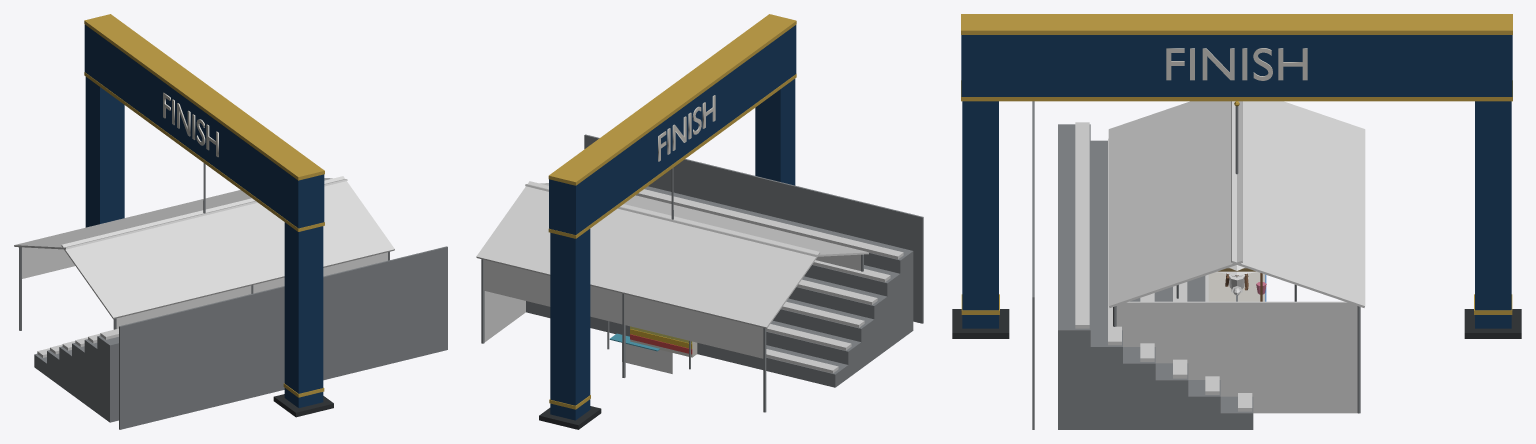
The model's file is kona_kit.glb.
The picture shows the model from 3 angles, left to right: view 1: azimuth 30°, elevation 25°; view 2: azimuth 150°, elevation 25°; view 3: azimuth 270°, elevation 25°; orthographic projection. The views are drawn at different scales.
Visible parts, largest first — view 1: KIT_grandstand, KIT_arch_final, KIT_expo_tent; view 2: KIT_expo_tent, KIT_arch_final, KIT_grandstand, KIT_shave_ice, KIT_flag; view 3: KIT_arch_final, KIT_expo_tent, KIT_grandstand, KIT_shave_ice.
Part boxes in pixels (<box>): KIT_grandstand: <box>34,246,447,429</box>; KIT_arch_final: <box>84,14,333,417</box>; KIT_expo_tent: <box>14,176,394,330</box>; KIT_expo_tent: <box>476,181,868,412</box>; KIT_arch_final: <box>539,14,796,429</box>; KIT_grandstand: <box>526,134,923,387</box>; KIT_shave_ice: <box>630,326,697,357</box>; KIT_flag: <box>622,343,672,373</box>; KIT_arch_final: <box>952,14,1521,338</box>; KIT_expo_tent: <box>1108,101,1365,413</box>; KIT_grandstand: <box>1032,101,1253,429</box>; KIT_shave_ice: <box>1208,268,1266,301</box>.
Bounding box in the file's own units: 12 × 9.36 × 14.
